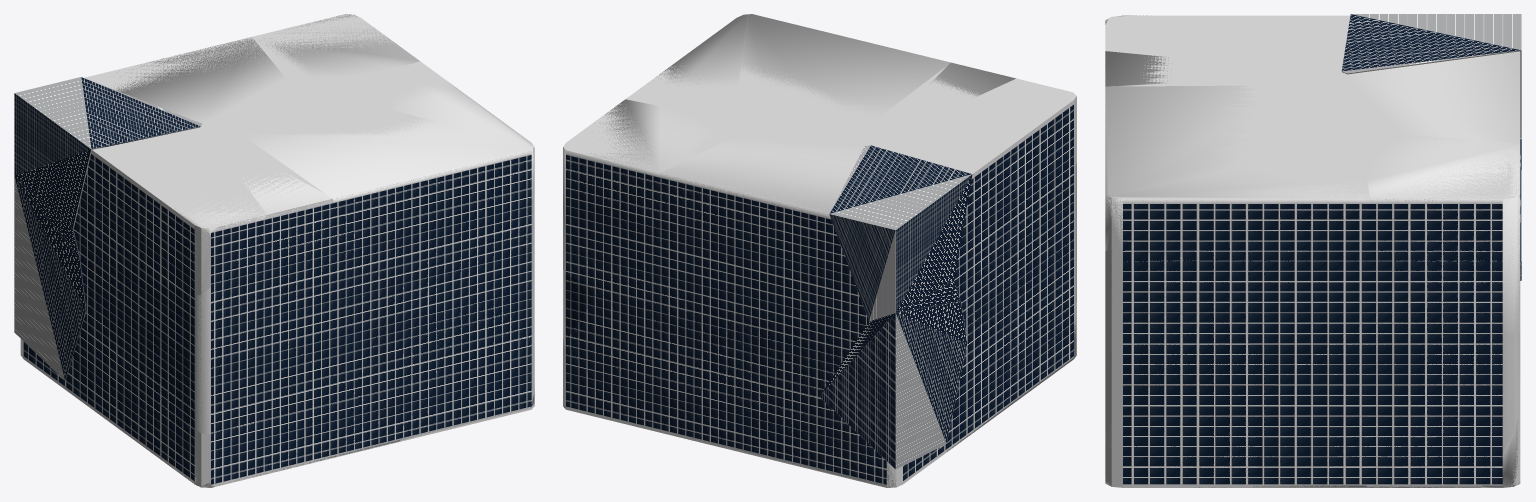
Rendered from debri2.fbx.
The picture shows the model from 3 angles, left to right: view 1: azimuth 30°, elevation 25°; view 2: azimuth 150°, elevation 25°; view 3: azimuth 270°, elevation 25°; orthographic projection. The views are drawn at different scales.
Visible parts, largest first — view 1: pCube1, pCube1_cell.019, pCube1_cell.015, pCube1_cell.013, pCube1_cell.011, pCube1_cell.018, pCube1_cell.006, pCube1_cell.005, pCube1_cell.012, pCube1_cell.014, pCube1_cell.009, pCube1_cell.007 (+2 smaller); view 2: pCube1, pCube1_cell.006, pCube1_cell.011, pCube1_cell.018, pCube1_cell.012, pCube1_cell.004, pCube1_cell.015, pCube1_cell.003, pCube1_cell.019, pCube1_cell.010, pCube1_cell.014, pCube1_cell.016 (+2 smaller); view 3: pCube1, pCube1_cell.012, pCube1_cell.001, pCube1_cell, pCube1_cell.008, pCube1_cell.014, pCube1_cell.015, pCube1_cell.006, pCube1_cell.011, pCube1_cell.016, pCube1_cell.013, pCube1_cell.019 (+1 smaller).
Boxes of the visible parts, left/top/right/bottom form: pCube1: left=20, top=14, right=534, bottom=487; pCube1_cell.019: left=80, top=153, right=393, bottom=434; pCube1_cell.015: left=244, top=116, right=534, bottom=300; pCube1_cell.013: left=406, top=200, right=534, bottom=412; pCube1_cell.011: left=14, top=77, right=202, bottom=229; pCube1_cell.018: left=14, top=176, right=86, bottom=380; pCube1_cell.006: left=113, top=37, right=286, bottom=124; pCube1_cell.005: left=211, top=123, right=413, bottom=428; pCube1_cell.012: left=264, top=14, right=419, bottom=78; pCube1_cell.014: left=388, top=80, right=534, bottom=164; pCube1_cell.009: left=400, top=373, right=534, bottom=439; pCube1_cell.007: left=161, top=193, right=266, bottom=294; pCube1: left=563, top=19, right=1076, bottom=487; pCube1_cell.006: left=659, top=139, right=868, bottom=393; pCube1_cell.011: left=829, top=145, right=972, bottom=321; pCube1_cell.018: left=819, top=281, right=967, bottom=469; pCube1_cell.012: left=563, top=99, right=715, bottom=298; pCube1_cell.004: left=566, top=290, right=752, bottom=450; pCube1_cell.015: left=740, top=14, right=950, bottom=119; pCube1_cell.003: left=742, top=396, right=896, bottom=487; pCube1_cell.019: left=896, top=62, right=1076, bottom=327; pCube1_cell.010: left=947, top=304, right=1076, bottom=451; pCube1_cell.014: left=659, top=14, right=747, bottom=89; pCube1_cell.016: left=645, top=113, right=830, bottom=397; pCube1: left=1105, top=15, right=1520, bottom=487; pCube1_cell.012: left=1367, top=135, right=1520, bottom=333; pCube1_cell.001: left=1253, top=324, right=1442, bottom=487; pCube1_cell: left=1172, top=131, right=1395, bottom=373; pCube1_cell.008: left=1366, top=328, right=1520, bottom=487; pCube1_cell.014: left=1108, top=159, right=1370, bottom=256; pCube1_cell.015: left=1105, top=85, right=1270, bottom=250; pCube1_cell.006: left=1347, top=51, right=1520, bottom=143; pCube1_cell.011: left=1341, top=14, right=1521, bottom=137; pCube1_cell.016: left=1320, top=92, right=1447, bottom=333; pCube1_cell.013: left=1105, top=251, right=1277, bottom=487; pCube1_cell.019: left=1105, top=51, right=1210, bottom=86.
Size of the model in its own units: 1657 by 1220 by 1585.
